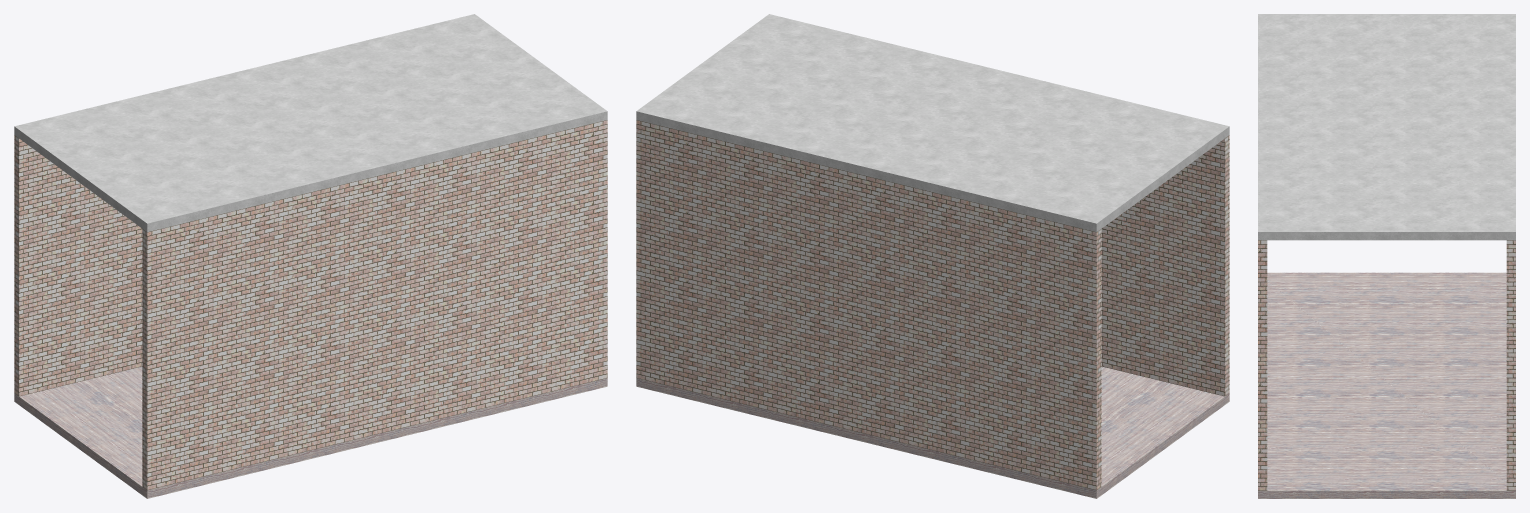
File: OLD_LongHallway.obj
3 views of the same model, side by side, from view 1: azimuth 30°, elevation 25°; view 2: azimuth 150°, elevation 25°; view 3: azimuth 270°, elevation 25° (orthographic). The views are drawn at different scales.
Parts seen in each view (by area): view 1: Walls1, Ceiling1, Floor1; view 2: Walls1, Ceiling1, Floor1; view 3: Ceiling1, Floor1, Walls1.
Part boxes in pixels (<box>): Walls1: <box>14,120,607,490</box>; Ceiling1: <box>14,14,607,232</box>; Floor1: <box>14,366,607,498</box>; Walls1: <box>636,120,1229,490</box>; Ceiling1: <box>636,14,1229,232</box>; Floor1: <box>636,366,1229,498</box>; Ceiling1: <box>1258,14,1515,240</box>; Floor1: <box>1258,272,1515,498</box>; Walls1: <box>1258,240,1515,490</box>.
Size of the model in its own units: 56 by 32 by 28.
